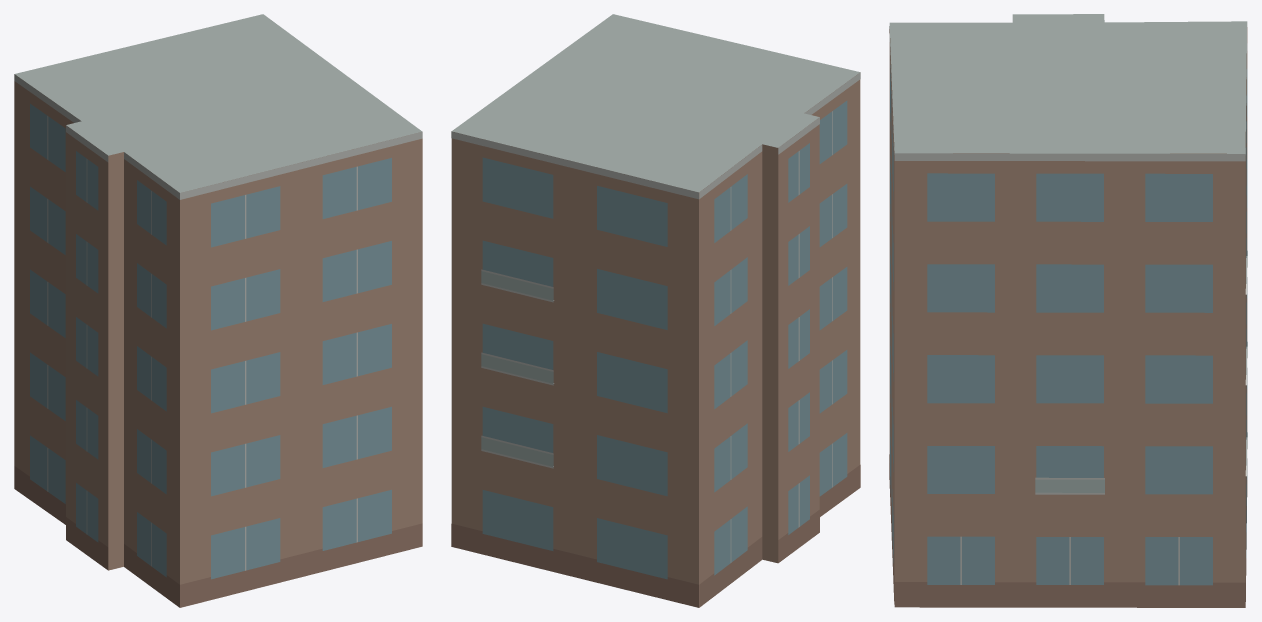
File: survey-upis-32914600.glb
The picture shows the model from 3 angles, left to right: view 1: azimuth 30°, elevation 25°; view 2: azimuth 150°, elevation 25°; view 3: azimuth 270°, elevation 25°; orthographic projection. The views are drawn at different scales.
Visible parts, largest first — view 1: survey-upis-32914600.tmp; view 2: survey-upis-32914600.tmp; view 3: survey-upis-32914600.tmp.
Part boxes in pixels (box(x1,y1,x2,y2)): survey-upis-32914600.tmp: box(14, 14, 422, 607); survey-upis-32914600.tmp: box(451, 14, 860, 607); survey-upis-32914600.tmp: box(889, 14, 1247, 607).
Bounding box in the file's own units: 9.67 × 14.6 × 10.44.
